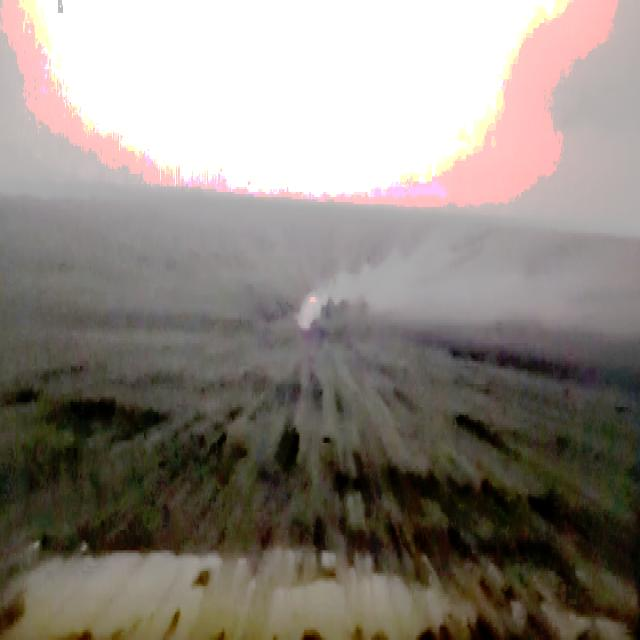asap: (291, 237, 431, 347)
